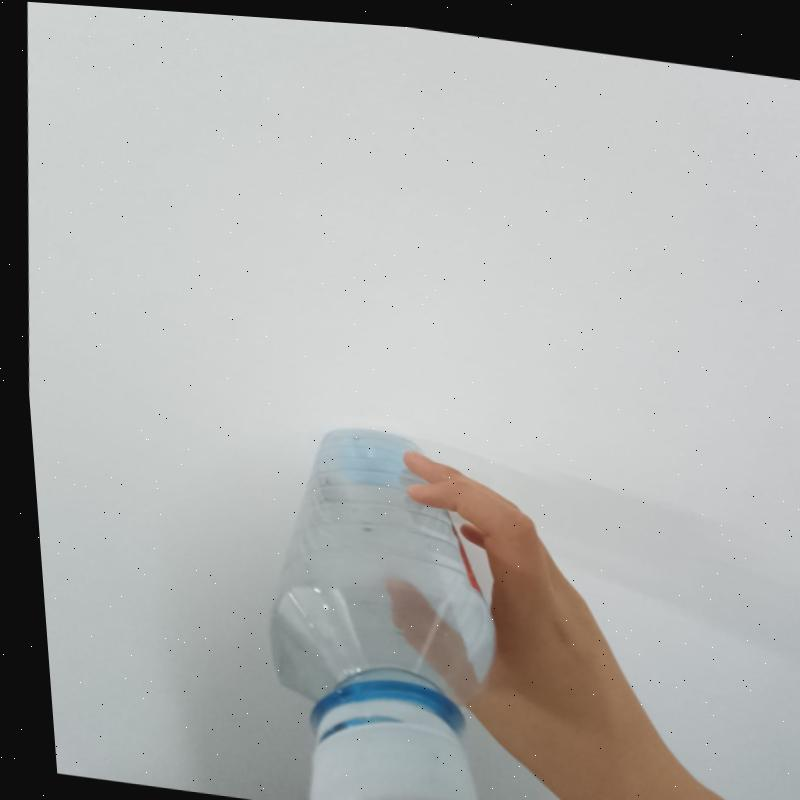botella: (228, 410, 507, 800)
